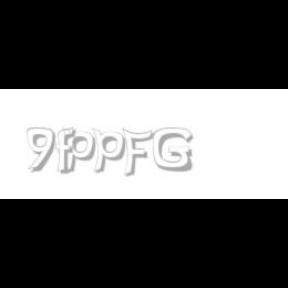9: (26, 128, 55, 172)
F: (121, 128, 153, 178)
G: (153, 128, 193, 172)
f: (56, 128, 80, 174)
p: (62, 128, 100, 174), (92, 128, 130, 174)
